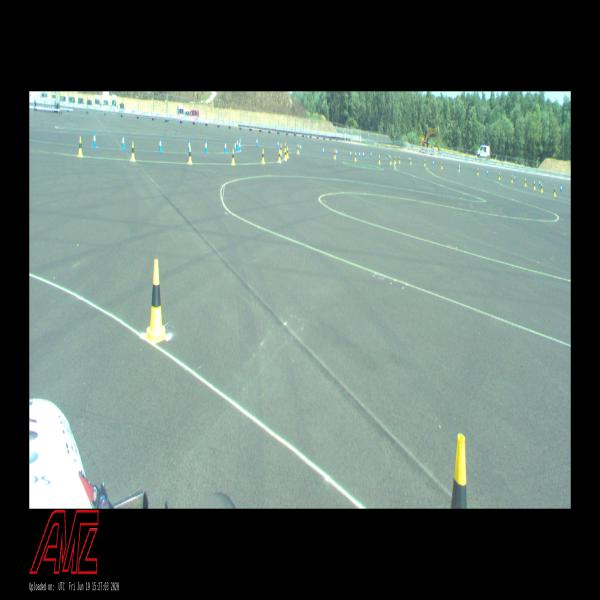blue_cone: (92, 130, 97, 148), (158, 137, 163, 153), (122, 134, 126, 150), (204, 140, 208, 153), (188, 139, 191, 153), (224, 140, 227, 153), (238, 142, 241, 152), (234, 140, 236, 152), (256, 137, 258, 147), (236, 139, 238, 149), (277, 140, 279, 149), (336, 148, 338, 157), (350, 150, 352, 158), (370, 150, 372, 158), (323, 147, 325, 155), (560, 184, 562, 192), (538, 179, 540, 186), (514, 175, 516, 182), (486, 169, 488, 176), (408, 156, 410, 162), (240, 137, 241, 146), (363, 150, 364, 158), (359, 150, 360, 158), (300, 144, 301, 152), (389, 153, 390, 160), (433, 159, 434, 166)
yellow_cone: (144, 259, 167, 344), (451, 434, 467, 508), (130, 142, 136, 161), (78, 136, 83, 157), (231, 149, 236, 165), (188, 147, 192, 164), (261, 149, 265, 164), (278, 149, 281, 162), (284, 148, 287, 160), (284, 142, 287, 152), (533, 180, 536, 190), (354, 152, 357, 161), (398, 155, 401, 164), (524, 178, 527, 186), (498, 172, 501, 180), (287, 147, 289, 158), (541, 182, 543, 193), (554, 186, 556, 196), (378, 154, 380, 164), (280, 144, 282, 154), (297, 144, 299, 153), (511, 174, 513, 183), (394, 155, 396, 164), (424, 158, 426, 166), (334, 150, 336, 158), (390, 156, 392, 164), (477, 168, 479, 176), (440, 162, 442, 169), (410, 157, 412, 164), (458, 165, 460, 172)
